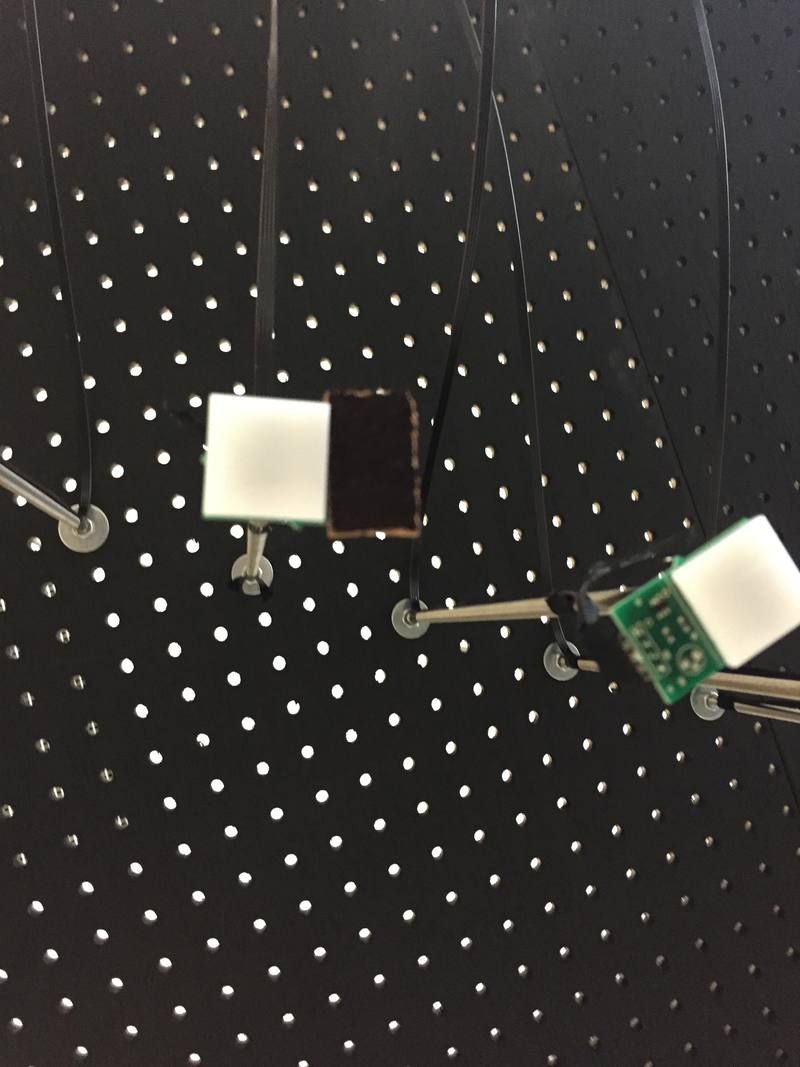target: (669, 506, 800, 668), (196, 390, 334, 529)
